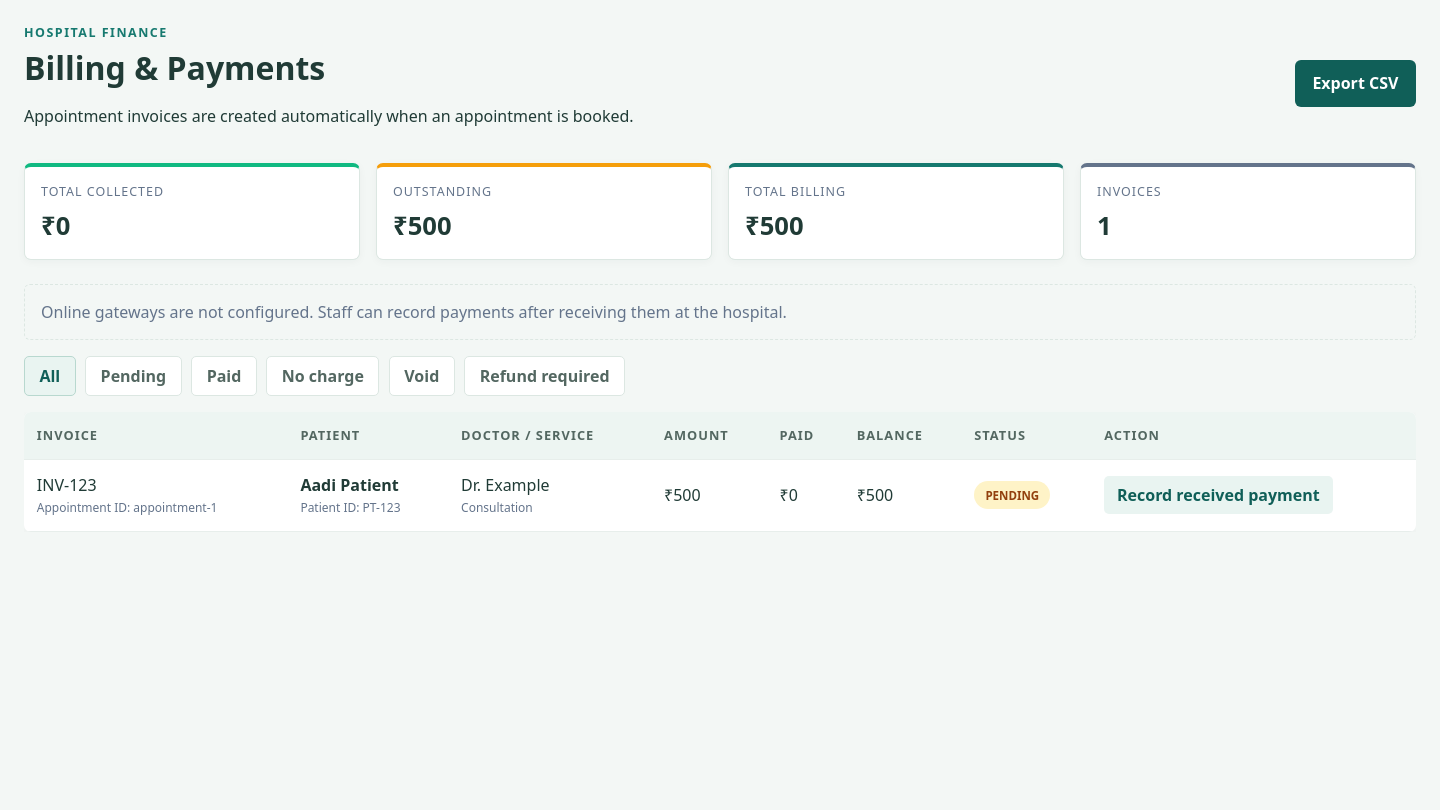
it: loads real appointment invoices and records an actual cash payment
Expected: the text "INV-123 Appointment ID: appointment-1" is shown, [24, 459, 288, 531]
Expected: the text "Aadi Patient" is shown, [300, 474, 399, 496]
Click the button "Record received payment".
click(1218, 495)  # box [1104, 476, 1332, 514]
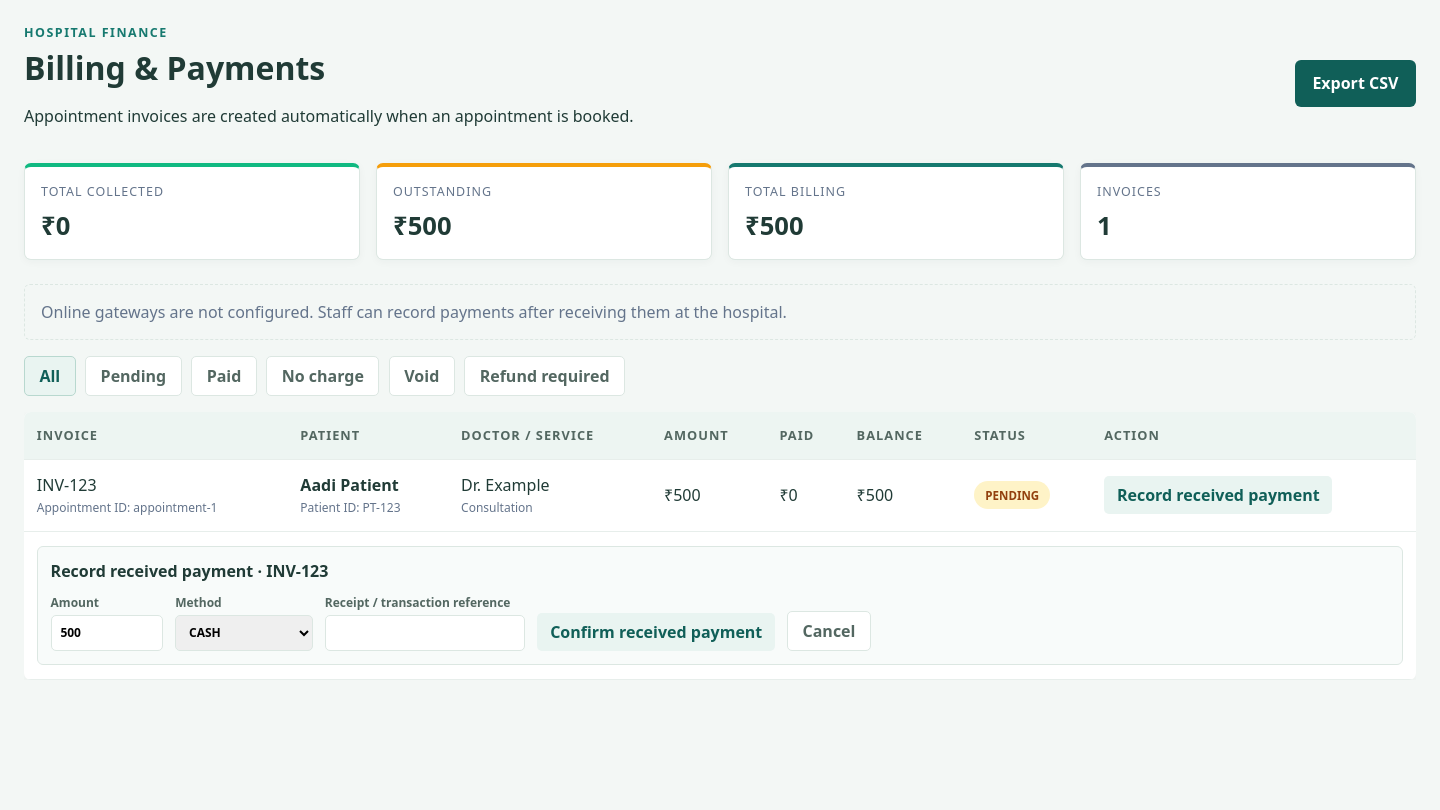
Click the button "Confirm received payment".
click(656, 632)  # box [537, 613, 775, 651]
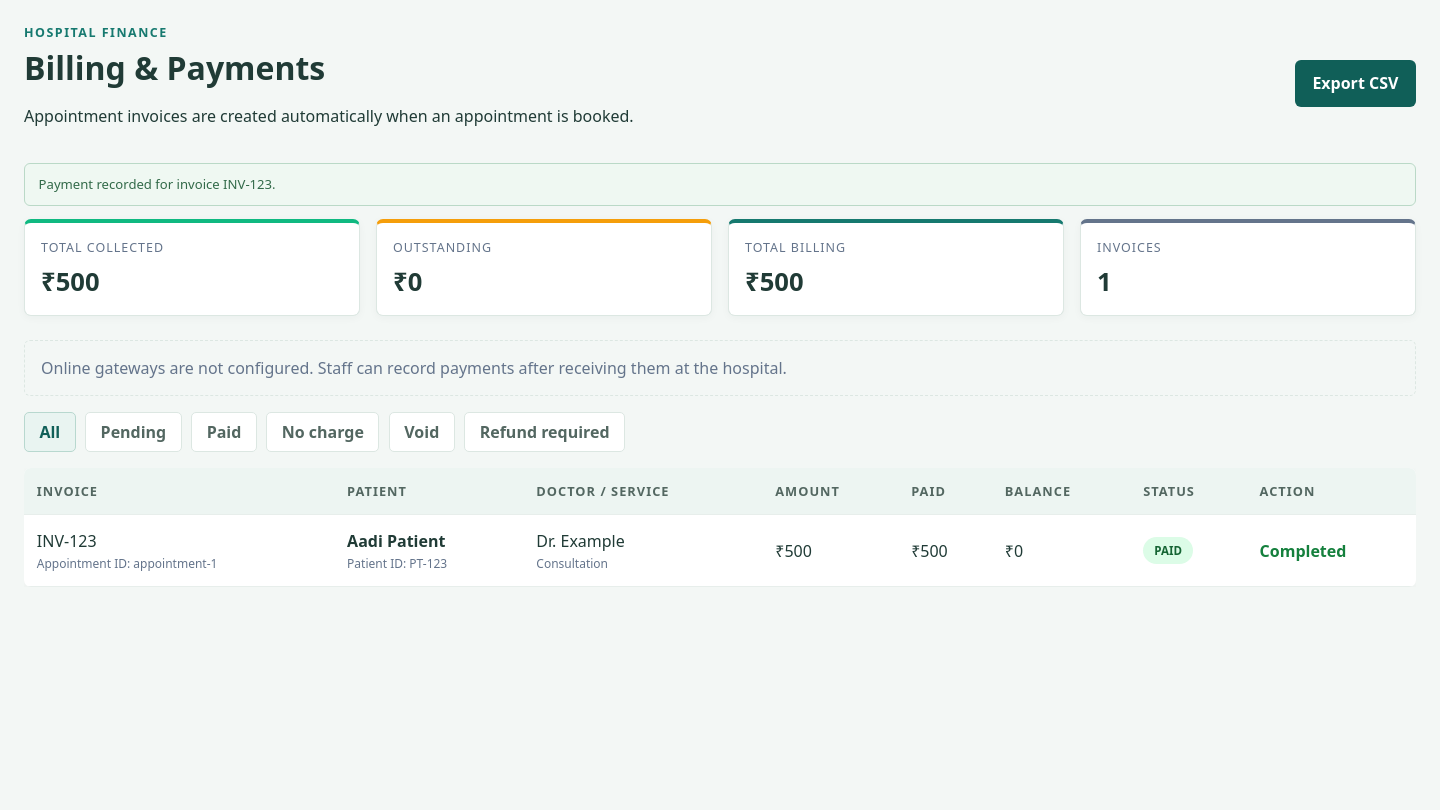
Expected: the text "Completed" is shown, [1260, 540, 1346, 562]
